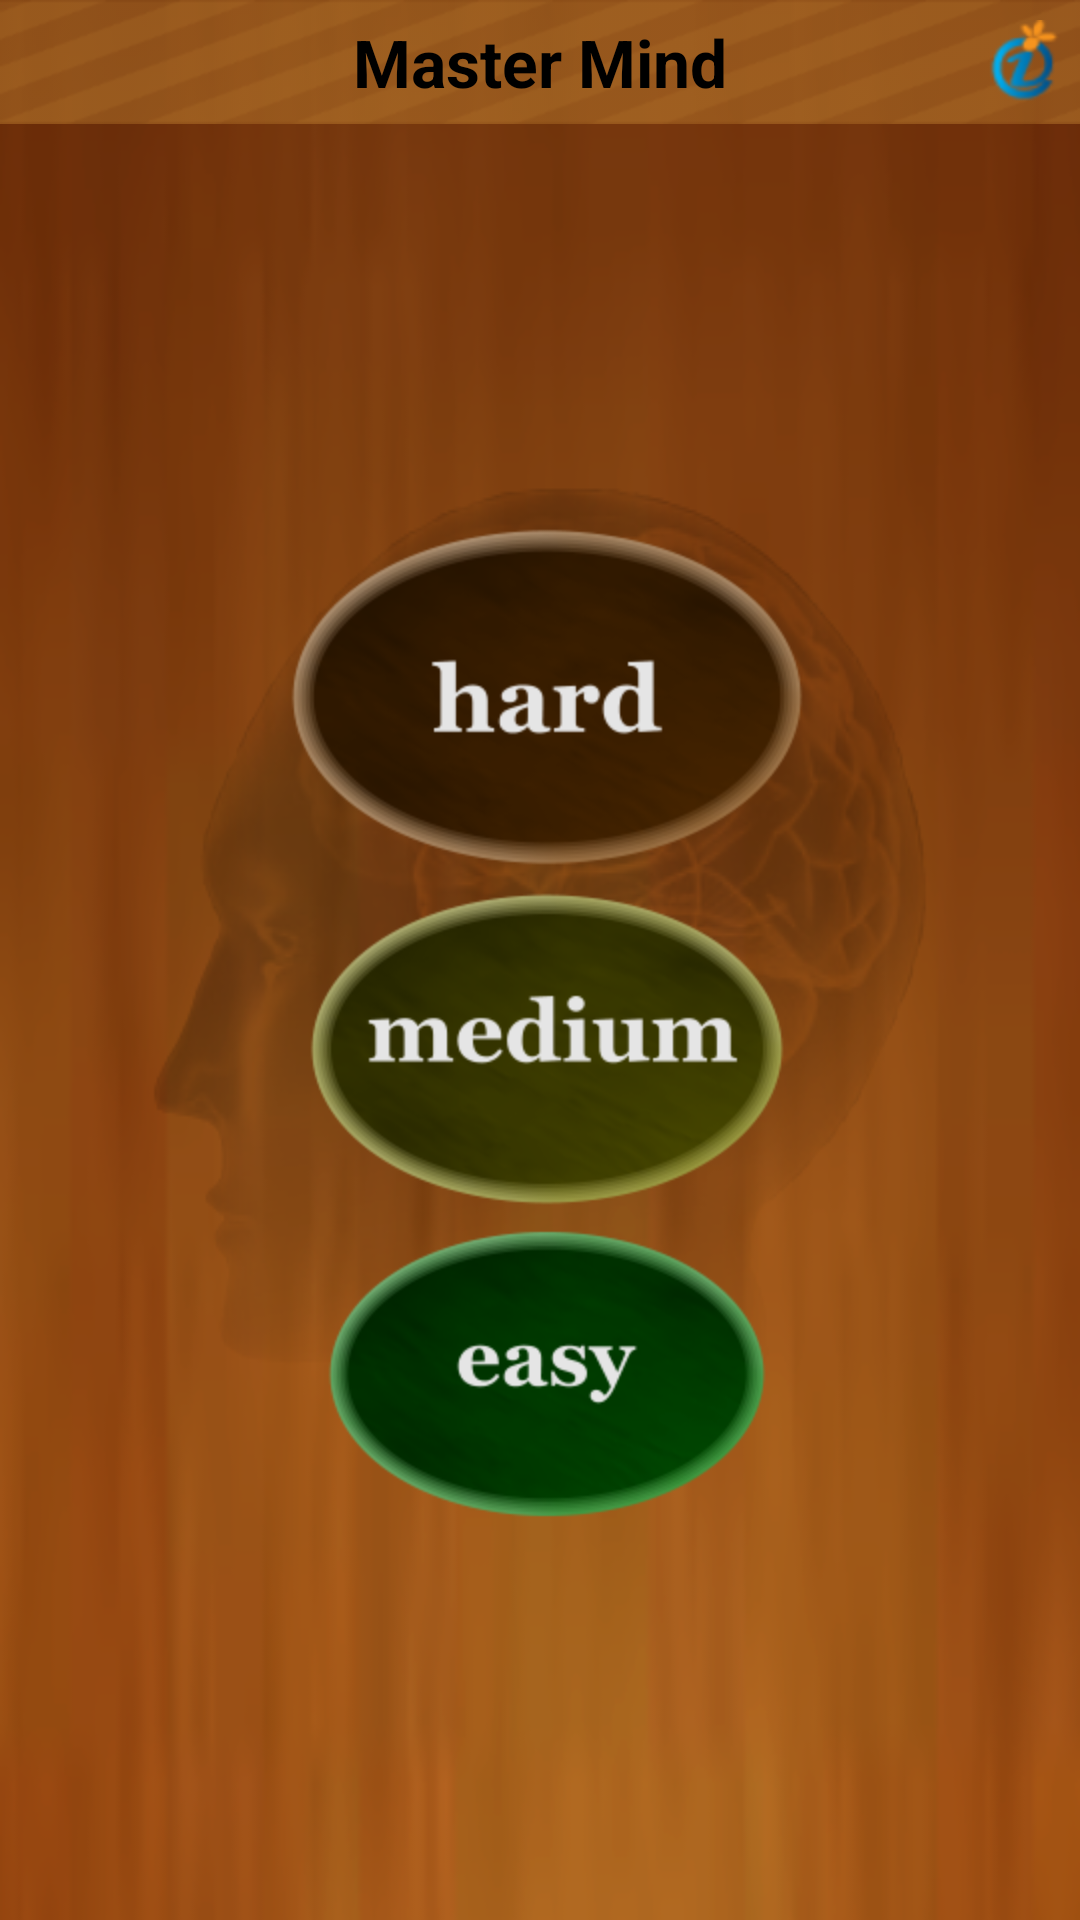

Named icons in this screenshot (1080 × 1920) and their centers, (x=x, y=y):
style about: (x=1023, y=60)
